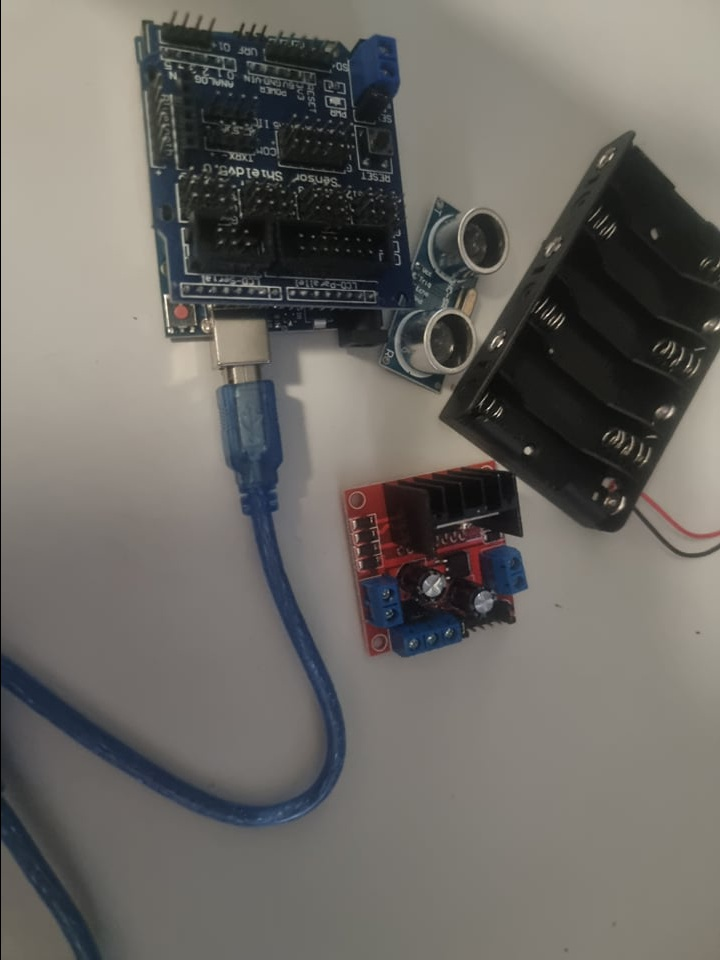5V EXPANSION: (154, 15, 402, 308)
BATTERY BOX: (436, 120, 719, 538)
MOTOR: (343, 459, 515, 662)
SENSOR: (381, 195, 504, 396)
UNO R3: (157, 306, 385, 371)
